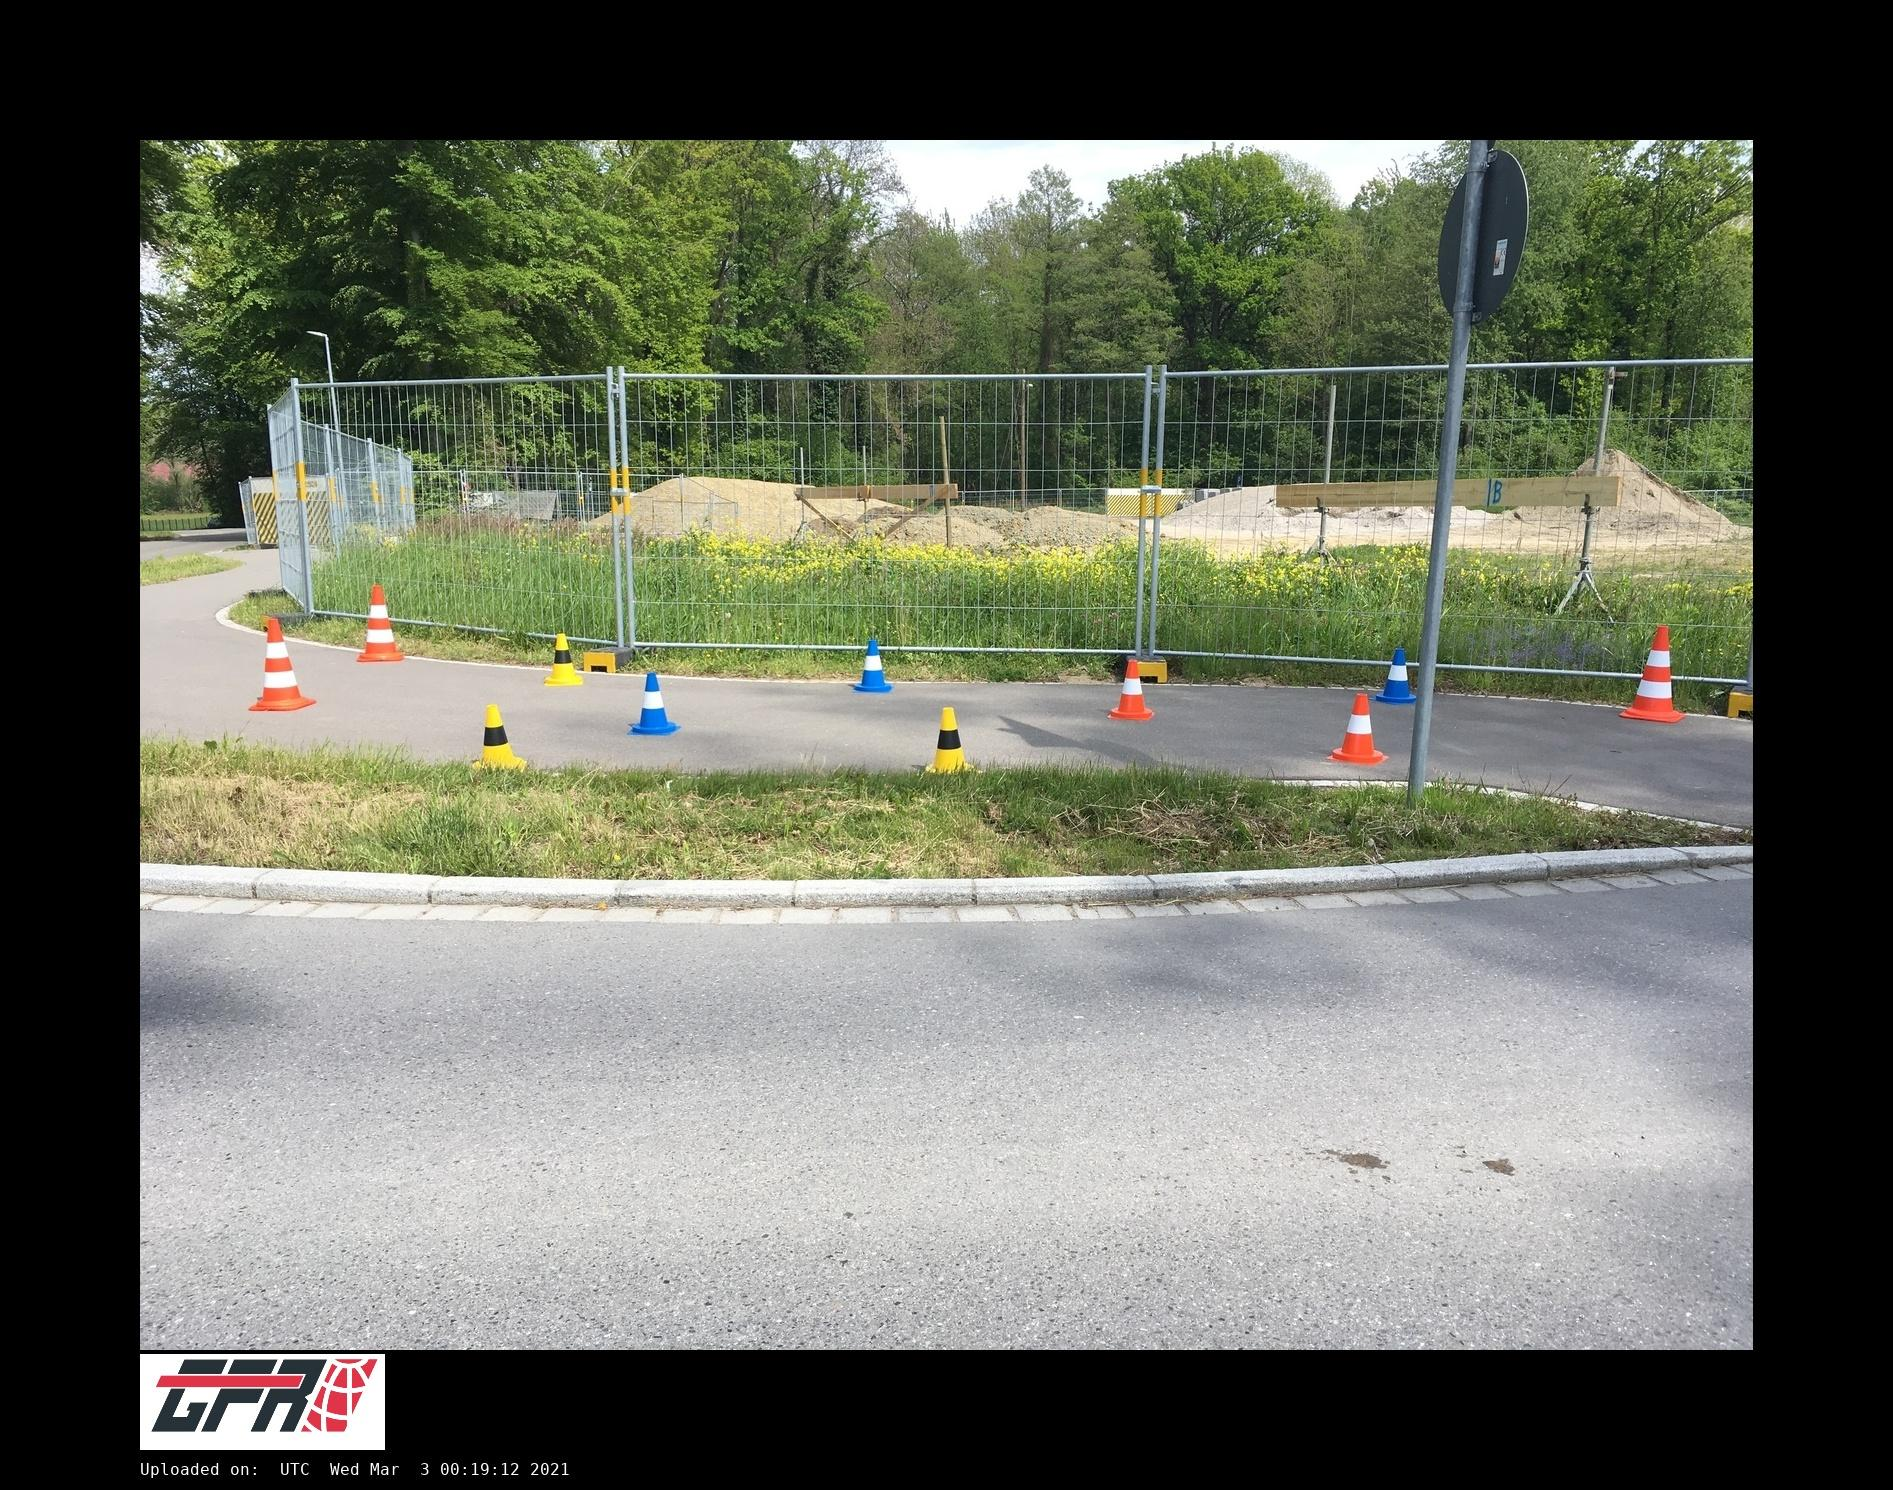blue_cone: (627, 671, 681, 734), (1371, 650, 1417, 704), (853, 641, 893, 693)
large_orange_cone: (1623, 627, 1686, 723), (250, 619, 315, 710), (356, 585, 404, 661)
orange_cone: (1328, 693, 1387, 763), (1108, 659, 1154, 720)
yellow_cone: (473, 705, 525, 771), (923, 708, 974, 773), (545, 634, 582, 685)
